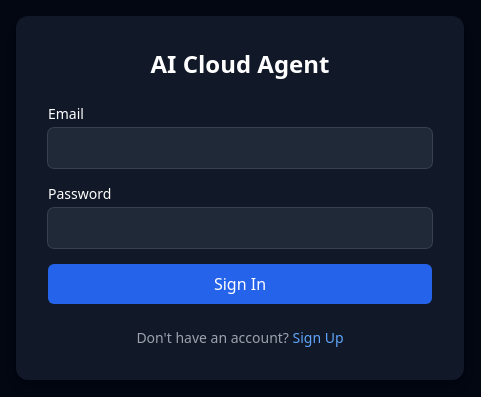
Test: Login Page › toggles between sign in and sign up
Click the button "Sign Up" at {"x": 318, "y": 338}, box [293,328,344,348]
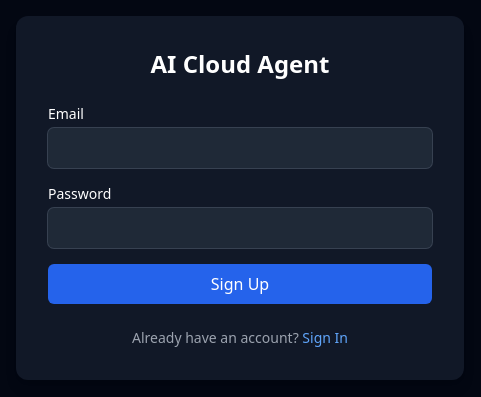
expect the button "Sign Up" is shown: met, box [48,264,432,304]
